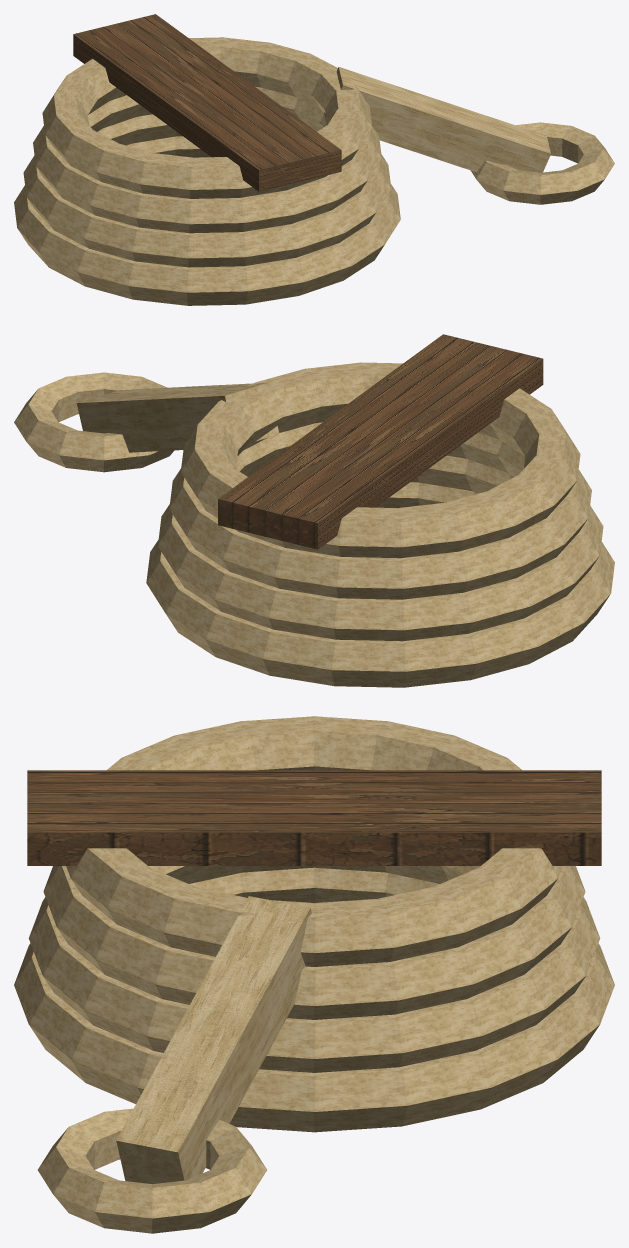
Rendered from ITM_ROPE_COIL_001.obj.
3 renders of one model, top to bottom at view 1: azimuth 30°, elevation 25°; view 2: azimuth 150°, elevation 25°; view 3: azimuth 270°, elevation 25°, orthographic. The views are drawn at different scales.
Parts seen in each view (by area): view 1: ChunkyCarryCoil, CarryBand, ReadableLooseEnd, OversizeEndLoop; view 2: ChunkyCarryCoil, CarryBand, OversizeEndLoop, ReadableLooseEnd; view 3: ChunkyCarryCoil, CarryBand, ReadableLooseEnd, OversizeEndLoop.
Part boxes in pixels (x1,y1,x2,y2): ChunkyCarryCoil: (14,37,400,305); CarryBand: (73,14,341,191); ReadableLooseEnd: (324,67,550,172); OversizeEndLoop: (470,122,614,204); ChunkyCarryCoil: (146,362,614,687); CarryBand: (218,334,543,549); OversizeEndLoop: (14,372,174,472); ReadableLooseEnd: (76,382,279,452); ChunkyCarryCoil: (14,716,614,1132); CarryBand: (27,770,601,865); ReadableLooseEnd: (116,896,311,1183); OversizeEndLoop: (38,1108,266,1233).
Size of the model in its own units: 0.622 by 0.1583 by 0.408.
Materials: 2 (2 with a texture image).
